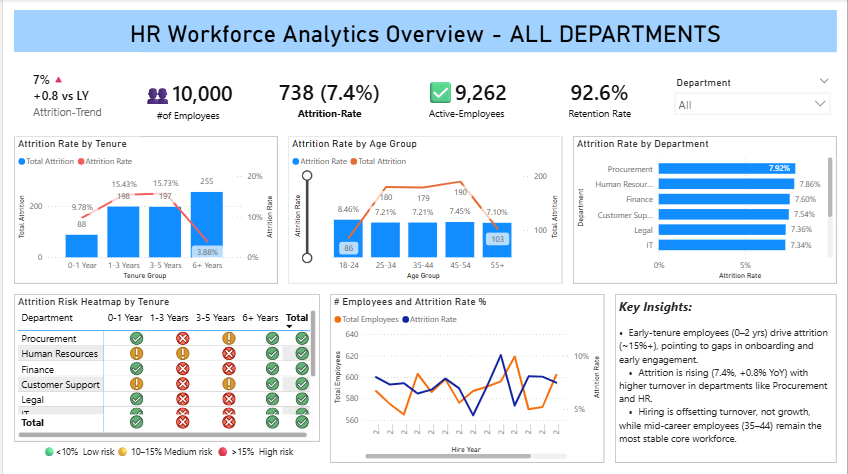

The page's visual inventory and layout, read from the dashboard file:
{"tool":"powerbi","page":{"name":" Overview","canvas":[1280,720],"ordinal":0},"visuals":[{"type":"lineClusteredColumnComboChart","title":"Attrition Rate by Age Group","fields":{"Category":["FactEmployee.Age Group"],"Y":["DimDepartment.Attrition Rate"],"Y2":["DimDepartment.Total Attrition"]},"box":[432,208,416,224],"z":0},{"type":"cardVisual","fields":{"Data":["DimDepartment.# of Employees"]},"box":[160,80,240,144],"z":1000},{"type":"pivotTable","title":"Attrition Risk Heatmap by Tenure","fields":{"Rows":["DimDepartment.Department"],"Columns":["FactEmployee.Tenure Group"],"Values":["DimDepartment.Attrition Rate"]},"box":[16,448,464,224],"z":2000},{"type":"lineChart","title":"# Employees and Attrition Rate %","fields":{"Y":["DimDepartment.Total Employees"],"Category":["FactEmployee.Hire Year"],"Y2":["DimDepartment.Attrition Rate"]},"box":[496,448,416,256],"z":3000},{"type":"textbox","box":[16,672,464,32],"z":4000},{"type":"card","fields":{"Values":["DimDepartment.Dynamic Title"]},"box":[16,16,1248,64],"z":5000},{"type":"textbox","box":[928,448,336,256],"z":6000},{"type":"lineStackedColumnComboChart","title":" Attrition Rate  by Tenure ","fields":{"Category":["FactEmployee.Tenure Group"],"Y":["DimDepartment.Total Attrition"],"Y2":["DimDepartment.Attrition Rate"]},"box":[16,208,400,224],"z":7000},{"type":"slicer","fields":{"Values":["DimDepartment.Department"]},"box":[1008,112,256,96],"z":8000},{"type":"barChart","fields":{"Category":["DimDepartment.Department"],"Y":["DimDepartment.Attrition Rate"]},"box":[864,208,400,224],"z":9000},{"type":"cardVisual","fields":{"Data":["FactEmployee.Active-Employees"]},"box":[592,96,224,112],"z":10000},{"type":"cardVisual","fields":{"Data":["FactEmployee.Employee Left %"]},"box":[384,96,224,112],"z":11000},{"type":"cardVisual","fields":{"Data":["DimDepartment.Retention Rate"]},"box":[800,96,208,112],"z":12000},{"type":"cardVisual","fields":{"Data":["Date.Attrition"]},"box":[16,80,192,128],"z":13000}]}

Visuals, with their boxes in screenshot pixels (x1, y1, x2, y2), scaled from the page's 1280x720 canvas onto the 848x474 screenshot:
"Attrition Rate by Age Group" lineClusteredColumnComboChart: select_region(286, 137, 562, 284)
cardVisual - DimDepartment.# of Employees: select_region(106, 53, 265, 147)
"Attrition Risk Heatmap by Tenure" pivotTable: select_region(11, 295, 318, 442)
"# Employees and Attrition Rate %" lineChart: select_region(329, 295, 604, 463)
textbox: select_region(11, 442, 318, 463)
card - DimDepartment.Dynamic Title: select_region(11, 11, 837, 53)
textbox: select_region(615, 295, 837, 463)
" Attrition Rate  by Tenure " lineStackedColumnComboChart: select_region(11, 137, 276, 284)
slicer - DimDepartment.Department: select_region(668, 74, 837, 137)
barChart - DimDepartment.Department x DimDepartment.Attrition Rate: select_region(572, 137, 837, 284)
cardVisual - FactEmployee.Active-Employees: select_region(392, 63, 541, 137)
cardVisual - FactEmployee.Employee Left %: select_region(254, 63, 403, 137)
cardVisual - DimDepartment.Retention Rate: select_region(530, 63, 668, 137)
cardVisual - Date.Attrition: select_region(11, 53, 138, 137)
